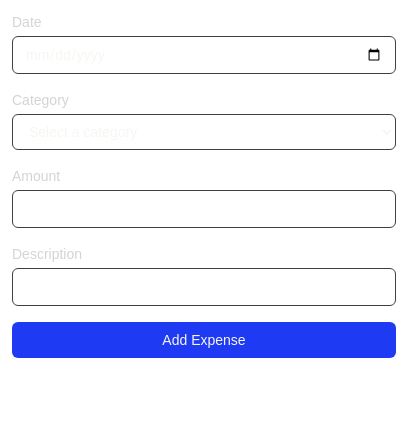
Test: AddExpenseForm › shows validation errors when submitted empty
Click the button "Add Expense" at (204,340), box 12,322 -> 396,358
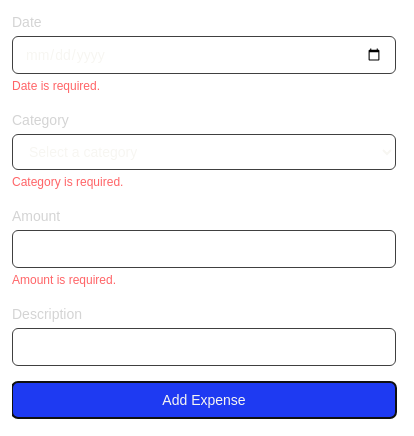
Result: the text "Date is required." is shown at 12,79 -> 100,93
Result: the text "Category is required." is shown at 12,175 -> 123,189
Result: the text "Amount is required." is shown at 12,273 -> 116,287
